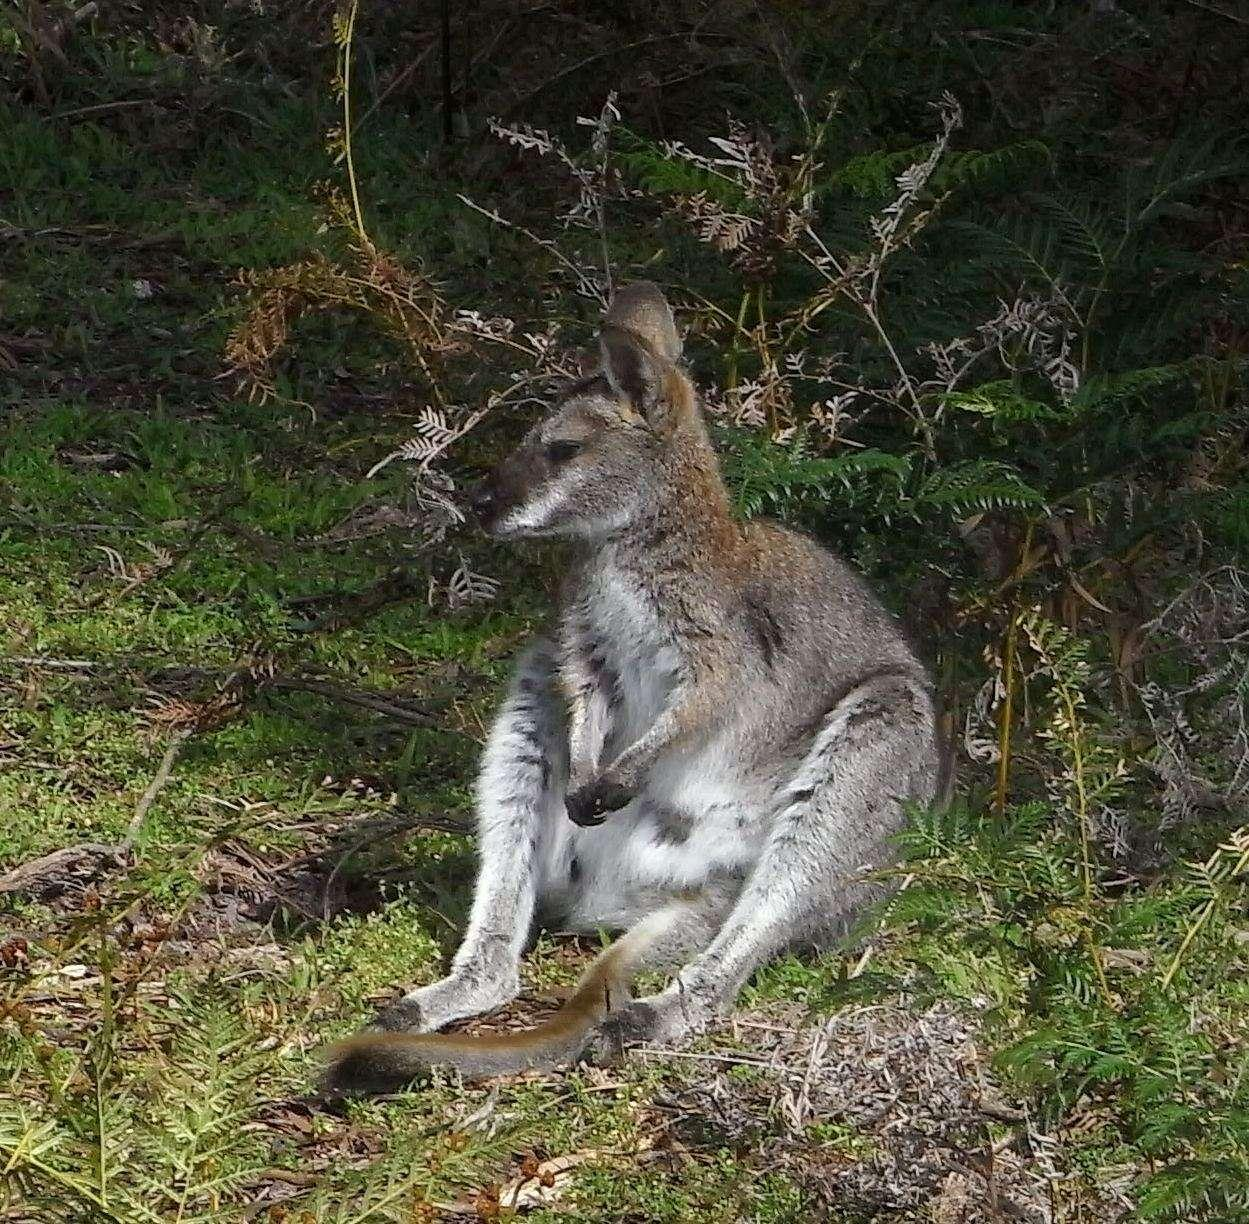Red-necked wallaby: (324, 284, 938, 1098)
